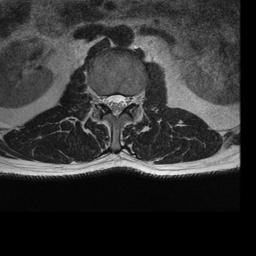CCS_normal: (113, 87, 120, 122)
LFS_normal: (128, 88, 136, 111)
LLS_normal: (120, 88, 128, 116)
RFS_normal: (96, 87, 104, 110)
RLS_normal: (105, 88, 113, 112)
